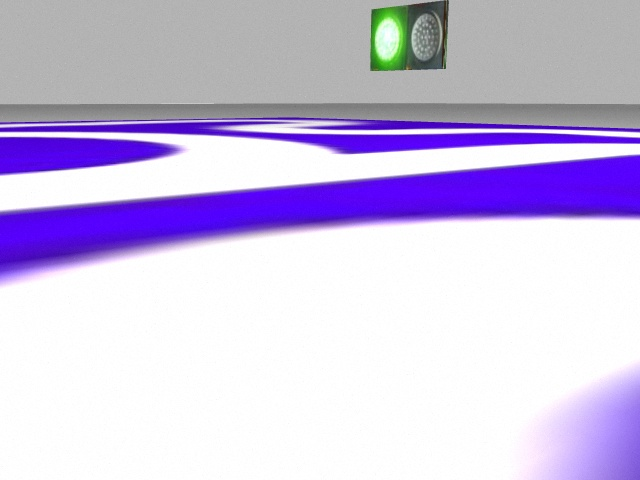green: (371, 7, 410, 71)
